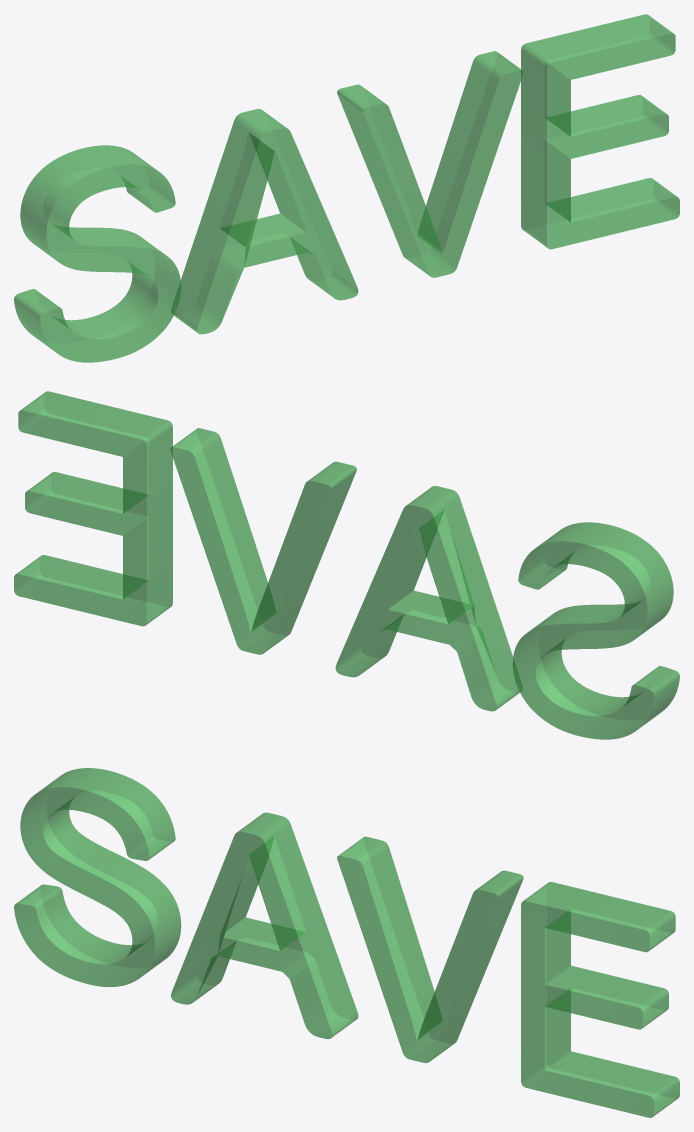
Rendered from save.FBX.
The picture shows the model from 3 angles, top to bottom: view 1: azimuth 30°, elevation 25°; view 2: azimuth 150°, elevation 25°; view 3: azimuth 330°, elevation 25°; orthographic projection.
Visible parts, largest first — view 1: Text001; view 2: Text001; view 3: Text001.
Boxes of the visible parts, x1,y1,x2,y2 form: Text001: (14, 14, 679, 362); Text001: (14, 391, 679, 739); Text001: (14, 768, 679, 1117).
Size of the model in its own units: 130 by 37.37 by 9.14.
